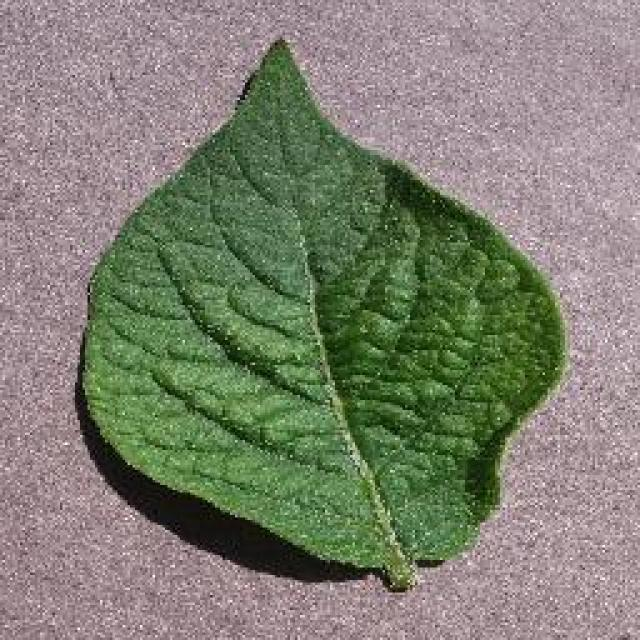healthy: (72, 32, 572, 592)
